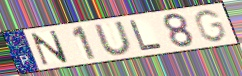1: (70, 24, 98, 61)
8: (161, 12, 196, 48)
G: (193, 9, 229, 44)
L: (128, 19, 165, 53)
N: (29, 29, 70, 67)
U: (92, 20, 135, 56)
